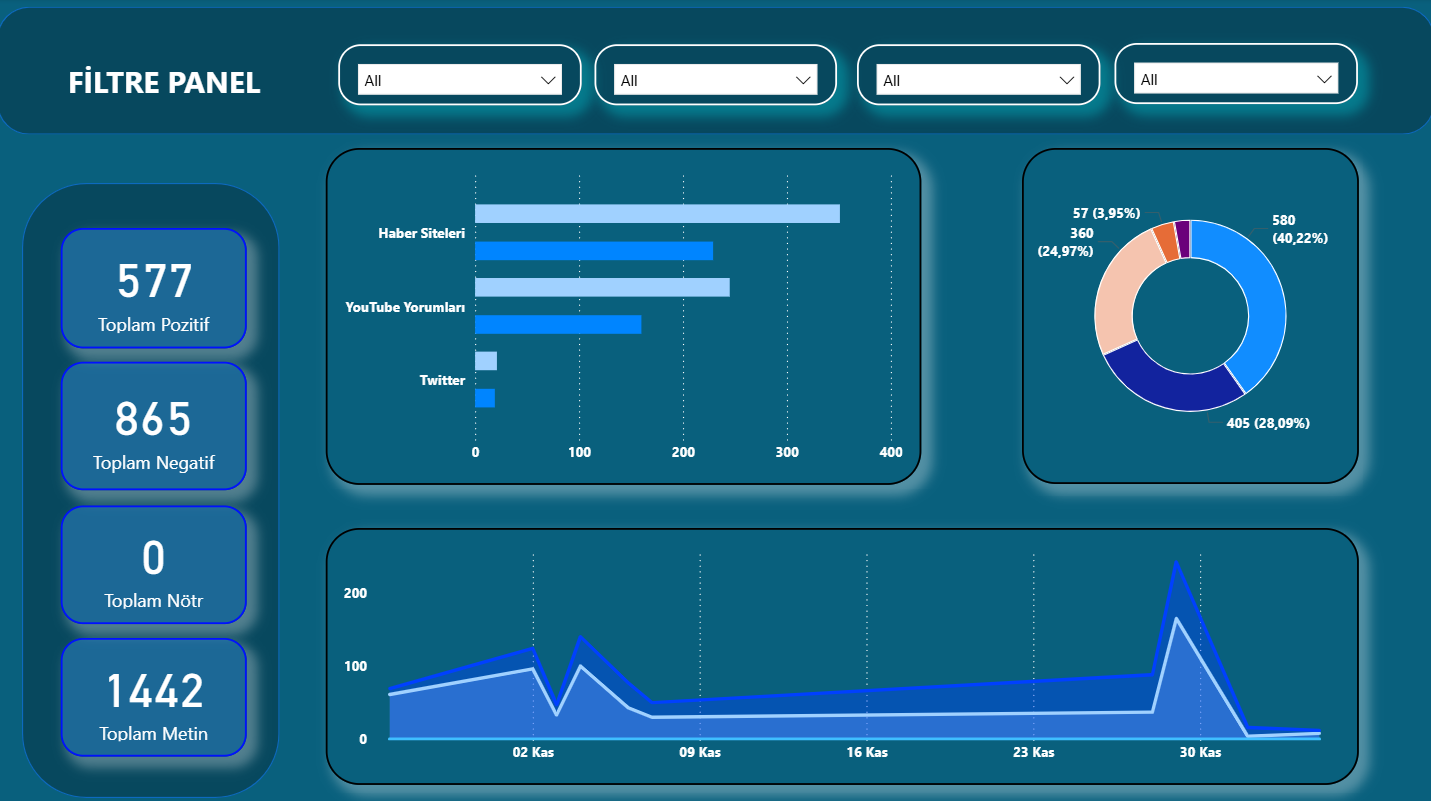

The dashboard page shown, as its layout file describes it:
{"tool":"powerbi","page":{"name":"Page 1","canvas":[1280,720],"ordinal":0},"visuals":[{"type":"shape","box":[0,8.1,1280.2,114],"z":0},{"type":"slicer","fields":{"Values":["public analiz_gecmisi.kaynak_tipi"]},"box":[303.9,41.2,217.1,54.5],"z":1000},{"type":"slicer","fields":{"Values":["public analiz_gecmisi.kaynak_detay"]},"box":[532.1,41.2,216,54.5],"z":2000},{"type":"slicer","fields":{"Values":["public analiz_gecmisi.kategori"]},"box":[765.9,41.2,217.1,54.5],"z":3000},{"type":"slicer","fields":{"Values":["public analiz_gecmisi.analiz_zamani"]},"box":[995.2,40.1,217.1,54.5],"z":4000},{"type":"donutChart","fields":{"Category":["public analiz_gecmisi.kaynak_tipi"],"Y":["Sum(public analiz_gecmisi.toplam_metin)"]},"box":[912.8,133.7,300,298.8],"z":5000},{"type":"clusteredBarChart","fields":{"Category":["public analiz_gecmisi.kaynak_tipi"],"Y":["Sum(public analiz_gecmisi.negatif_sayisi)","Sum(public analiz_gecmisi.notr_sayisi)","Sum(public analiz_gecmisi.pozitif_sayisi)"]},"box":[293,133.7,530.2,300],"z":6000},{"type":"shape","box":[22.3,164.8,229.3,547.7],"z":7000},{"type":"card","fields":{"Values":["Sum(public analiz_gecmisi.pozitif_sayisi)"]},"box":[56.8,204.8,165.9,106.9],"z":8000},{"type":"card","fields":{"Values":["Sum(public analiz_gecmisi.negatif_sayisi)"]},"box":[56.8,323.9,165.9,114.7],"z":9000},{"type":"card","fields":{"Values":["Sum(public analiz_gecmisi.notr_sayisi)"]},"box":[56.8,452,165.9,105.8],"z":10000},{"type":"card","fields":{"Values":["Sum(public analiz_gecmisi.toplam_metin)"]},"box":[56.8,569.9,165.9,105.8],"z":11000},{"type":"areaChart","fields":{"Y":["Sum(public analiz_gecmisi.pozitif_sayisi)","Sum(public analiz_gecmisi.notr_sayisi)","Sum(public analiz_gecmisi.negatif_sayisi)"],"Category":["public analiz_gecmisi.analiz_zamani.Variation.Tarih Hiyerarşisi.Yıl","public analiz_gecmisi.analiz_zamani.Variation.Tarih Hiyerarşisi.Çeyrek","public analiz_gecmisi.analiz_zamani.Variation.Tarih Hiyerarşisi.Ay","public analiz_gecmisi.analiz_zamani.Variation.Tarih Hiyerarşisi.Gün"]},"box":[293,472.1,919.8,229.1],"z":12000},{"type":"textbox","box":[22.3,51.2,252.7,70.1],"z":13000}]}

Visuals, with their boxes in screenshot pixels (x1, y1, x2, y2), scaled from the page's 1280x720 canvas onto the 1431x801 screenshot:
shape: [0,9,1430,136]
slicer - public analiz_gecmisi.kaynak_tipi: [340,46,582,106]
slicer - public analiz_gecmisi.kaynak_detay: [595,46,836,106]
slicer - public analiz_gecmisi.kategori: [856,46,1099,106]
slicer - public analiz_gecmisi.analiz_zamani: [1113,45,1355,105]
donutChart - public analiz_gecmisi.kaynak_tipi x Sum(public analiz_gecmisi.toplam_metin): [1020,149,1356,481]
clusteredBarChart - public analiz_gecmisi.kaynak_tipi x Sum(public analiz_gecmisi.negatif_sayisi): [328,149,920,482]
shape: [25,183,281,793]
card - Sum(public analiz_gecmisi.pozitif_sayisi): [64,228,249,347]
card - Sum(public analiz_gecmisi.negatif_sayisi): [64,360,249,488]
card - Sum(public analiz_gecmisi.notr_sayisi): [64,503,249,621]
card - Sum(public analiz_gecmisi.toplam_metin): [64,634,249,752]
areaChart - Sum(public analiz_gecmisi.pozitif_sayisi) x Sum(public analiz_gecmisi.notr_sayisi): [328,525,1356,780]
textbox: [25,57,307,135]
